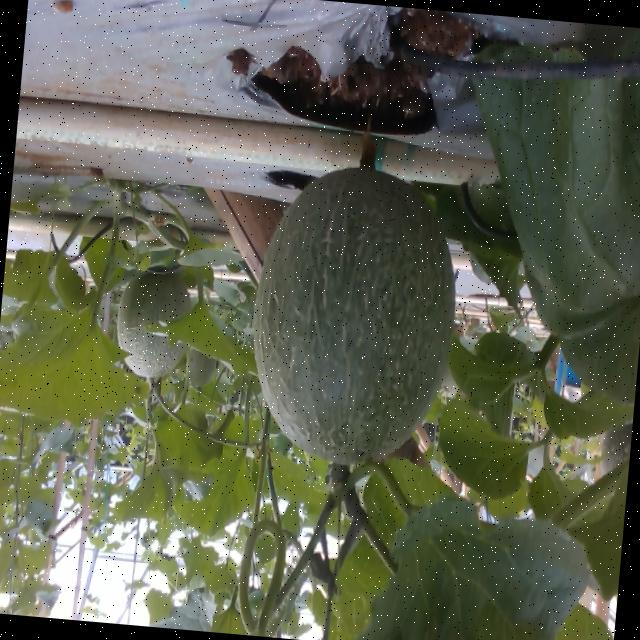melon: (252, 165, 453, 463)
